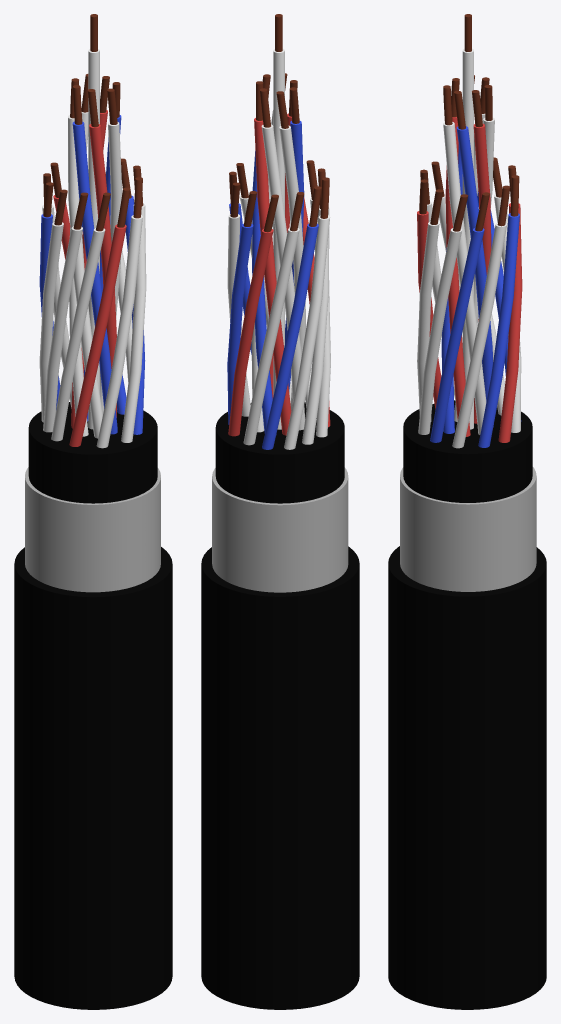
Rendered from provod.glb.
The picture shows the model from 3 angles, left to right: view 1: azimuth 30°, elevation 25°; view 2: azimuth 150°, elevation 25°; view 3: azimuth 270°, elevation 25°; orthographic projection.
Visible parts, largest first — view 1: black, white, Cylinder045, red, blue, cuprum; view 2: black, white, Cylinder045, blue, red, cuprum; view 3: black, white, Cylinder045, blue, red, cuprum.
Part boxes in pixels (box(x1,y1,x2,y2)): black: box(14, 402, 172, 1009); white: box(39, 49, 146, 448); Cylinder045: box(25, 467, 160, 592); red: box(53, 110, 126, 446); blue: box(39, 115, 145, 434); cuprum: box(43, 14, 143, 231); black: box(201, 402, 359, 1009); white: box(227, 49, 330, 449); Cylinder045: box(212, 467, 348, 592); blue: box(227, 121, 318, 449); red: box(228, 113, 330, 436); cuprum: box(229, 14, 329, 232); black: box(388, 400, 546, 1009); white: box(417, 48, 521, 448); Cylinder045: box(400, 467, 536, 591); blue: box(430, 126, 521, 447); red: box(417, 117, 522, 442); cuprum: box(419, 14, 519, 231).
Size of the model in its own units: 0.3891 by 2.61 by 0.3901.
